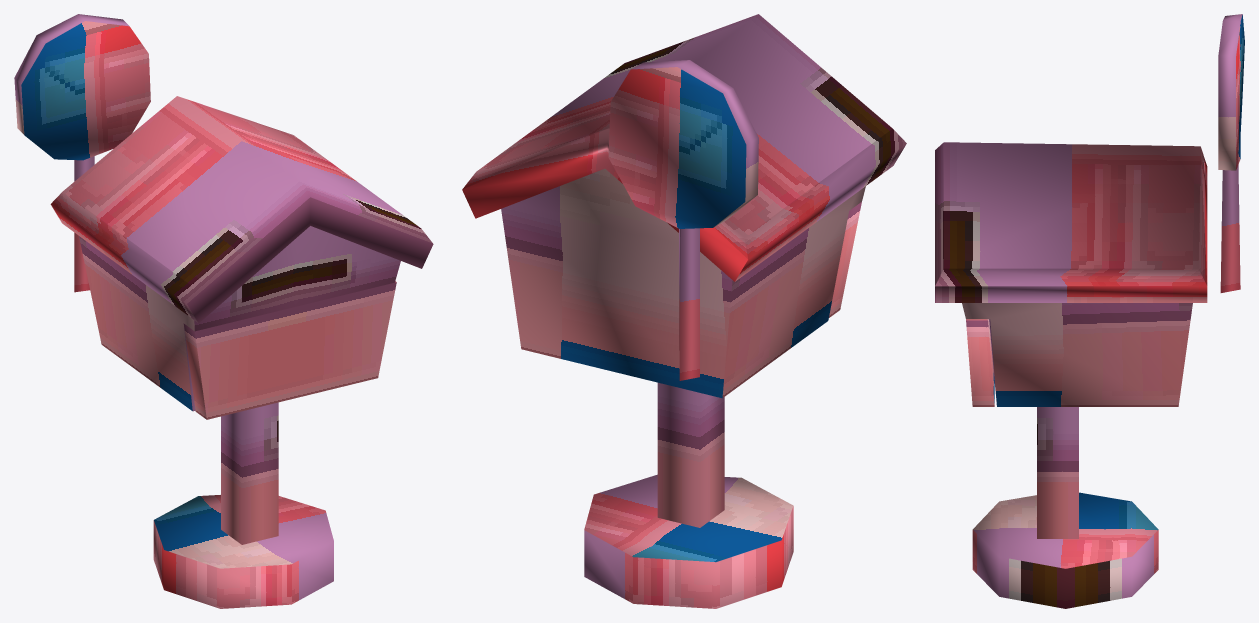
File: int_post_B02.dae
3 renders of one model, left to right at view 1: azimuth 30°, elevation 25°; view 2: azimuth 150°, elevation 25°; view 3: azimuth 270°, elevation 25°, orthographic. The views are drawn at different scales.
Visible parts, largest first — view 1: int_post_B02; view 2: int_post_B02; view 3: int_post_B02.
Boxes of the visible parts, box(x1,y1,x2,y2) form: int_post_B02: box(14, 14, 433, 608); int_post_B02: box(462, 14, 906, 608); int_post_B02: box(935, 14, 1244, 608).
Bounding box in the file's own units: 21.63 × 39.81 × 21.94.
Materials: 1 (1 with a texture image).
